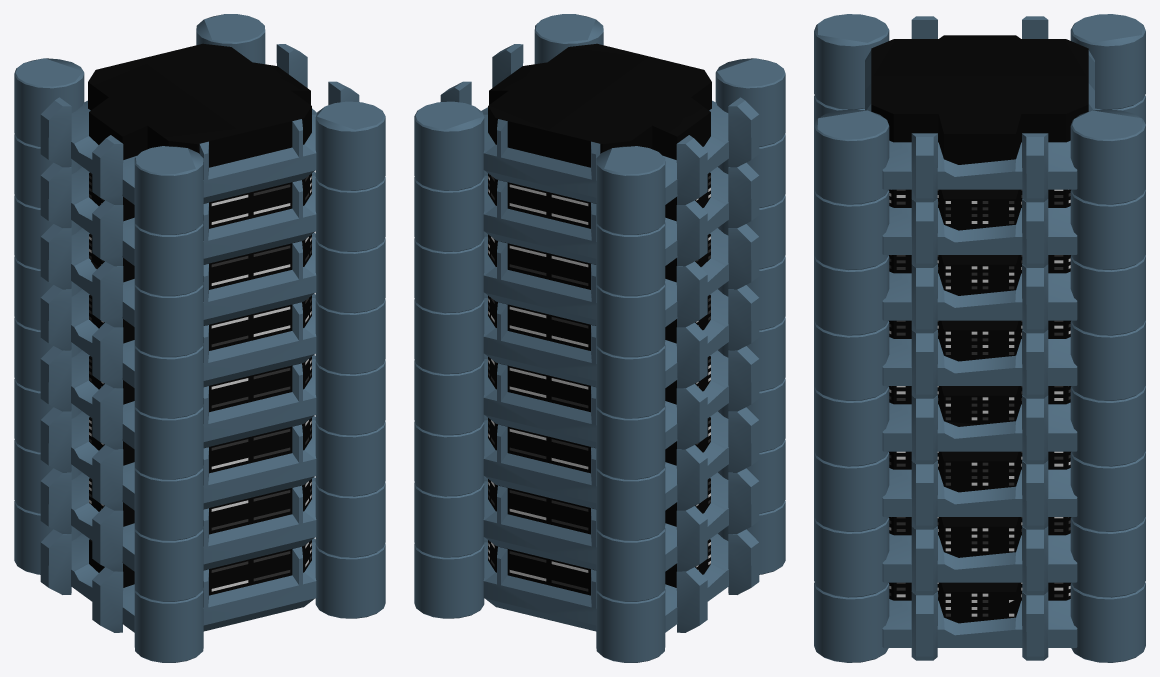
Rendered from building_001.glb.
The picture shows the model from 3 angles, left to right: view 1: azimuth 30°, elevation 25°; view 2: azimuth 150°, elevation 25°; view 3: azimuth 270°, elevation 25°; orthographic projection. The views are drawn at different scales.
Parts seen in each view (by area): view 1: building.001; view 2: building.001; view 3: building.001.
Part boxes in pixels (x1,y1,x2,y2): building.001: [14, 14, 385, 662]; building.001: [414, 14, 785, 662]; building.001: [814, 14, 1145, 662].
Bounding box in the file's own units: 4.9 × 8.85 × 5.08.
